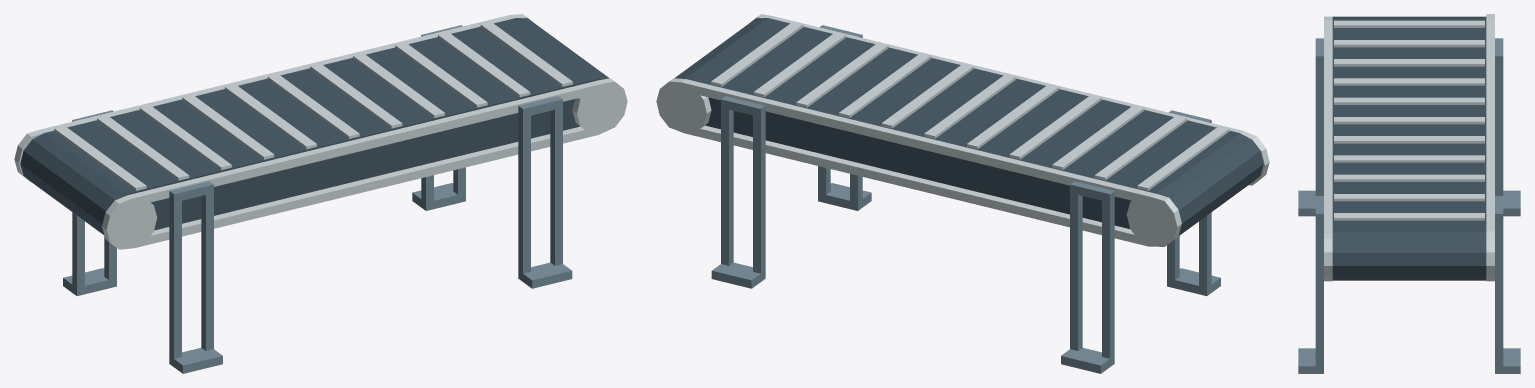
File: conveyor.glb
3 renders of one model, left to right at view 1: azimuth 30°, elevation 25°; view 2: azimuth 150°, elevation 25°; view 3: azimuth 270°, elevation 25°, orthographic. The views are drawn at different scales.
Parts seen in each view (by area): view 1: group1751849987, group1395806188, group600698695, group1439868329, group1875178703, group1407714466, group955717307, group1864052554; view 2: group1751849987, group1407714466, group600698695, group1864052554, group955717307, group1875178703, group1395806188, group1439868329; view 3: group1751849987, group600698695, group1407714466, group1395806188, group1439868329, group1864052554, group1875178703, group955717307.
Part boxes in pixels (box(x1,y1,x2,y2)): group1751849987: box(20, 18, 609, 234); group1395806188: box(102, 78, 627, 249); group600698695: box(54, 22, 572, 190); group1439868329: box(518, 96, 572, 288); group1875178703: box(169, 181, 222, 373); group1407714466: box(14, 14, 532, 182); group955717307: box(63, 110, 116, 295); group1864052554: box(412, 25, 465, 210); group1751849987: box(674, 18, 1263, 235); group1407714466: box(656, 78, 1181, 246); group600698695: box(711, 22, 1229, 190); group1864052554: box(711, 96, 765, 288); group955717307: box(1061, 181, 1114, 373); group1875178703: box(1167, 110, 1220, 295); group1395806188: box(751, 14, 1269, 185); group1439868329: box(818, 25, 871, 210); group1751849987: box(1332, 16, 1486, 280); group600698695: box(1334, 20, 1484, 220); group1407714466: box(1486, 14, 1494, 281); group1395806188: box(1324, 16, 1332, 281); group1439868329: box(1298, 196, 1323, 373); group1864052554: box(1495, 196, 1520, 373); group1875178703: box(1298, 38, 1323, 216); group955717307: box(1495, 38, 1520, 216).
Size of the model in its own units: 1.96 by 0.64 by 0.78.
